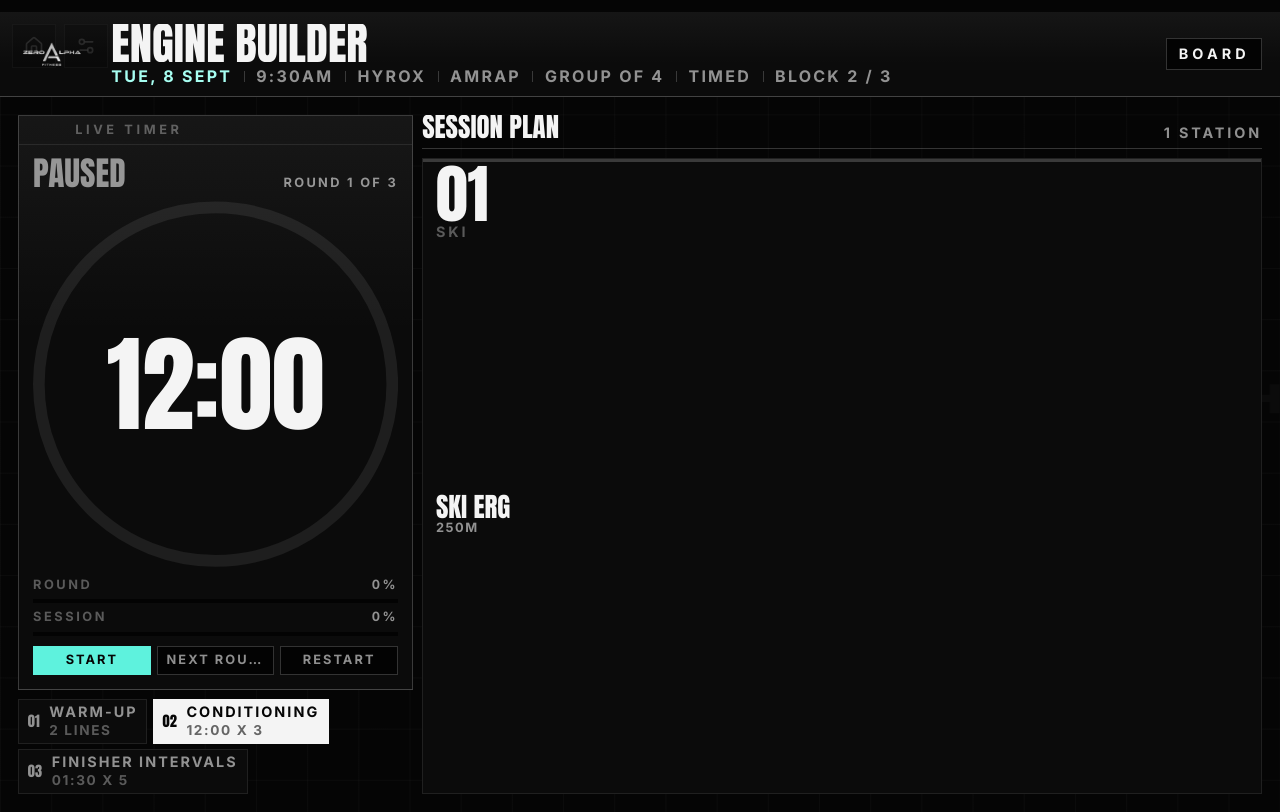
Test: WODDisplay board › gives every conditioning block its own timer, not the legacy projection
The image size is (1280, 812).
What coordinates should you click on to do the following:
click the button "03 Finisher Intervals 01:30 x 5"
I would click on:
 (133, 772)
Its box is [18, 749, 248, 794].
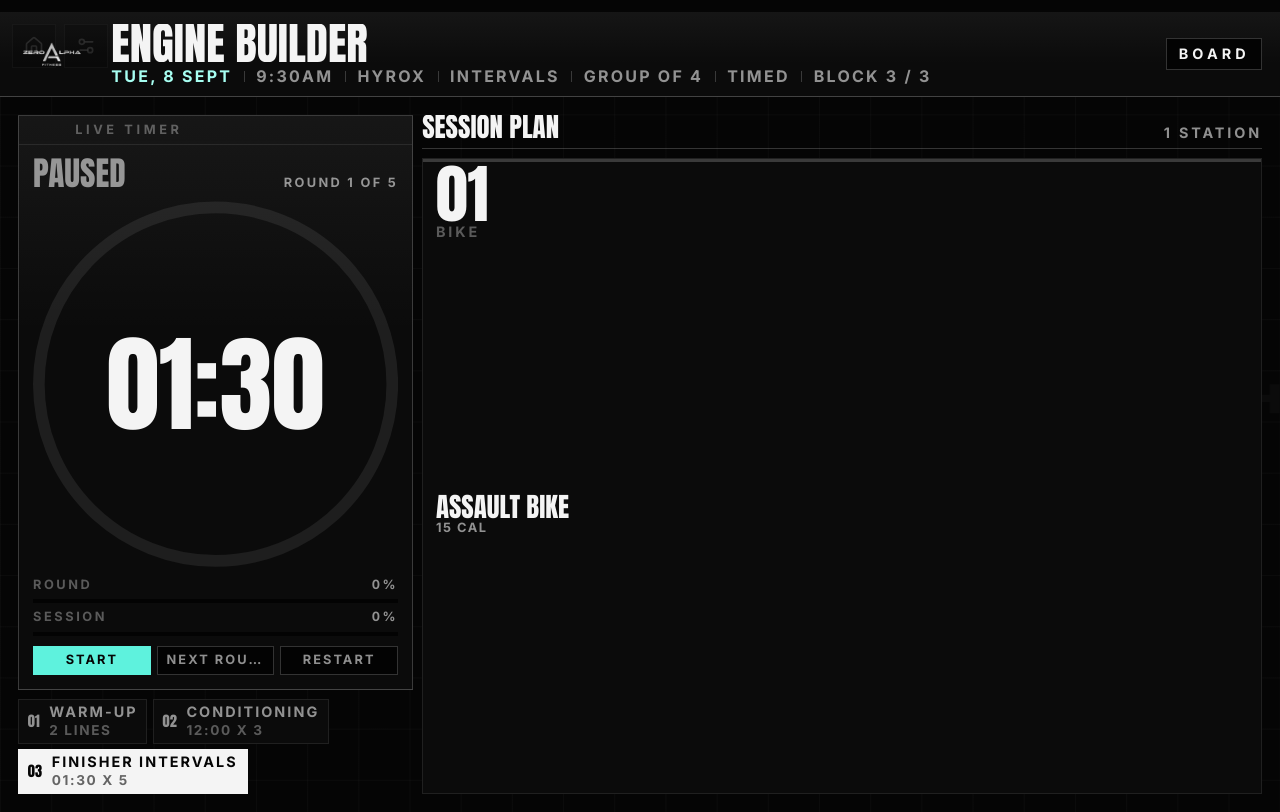
expect the text "Round 1 of 5" is shown: met, box [284, 177, 398, 190]
expect the text "Bike" is shown: met, box [436, 223, 480, 240]
expect the text "Ski" is gone: met
